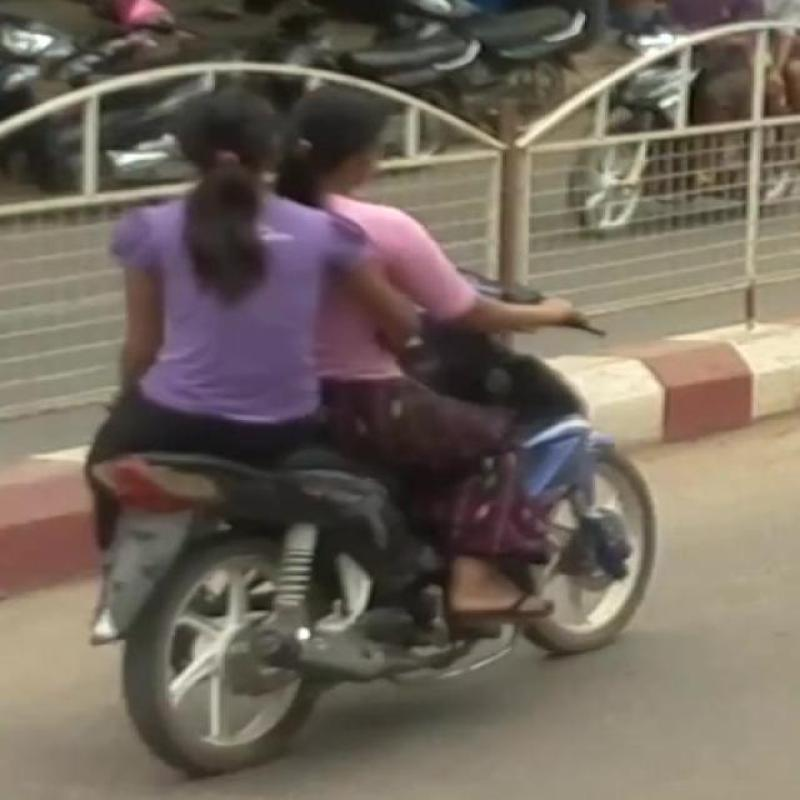nohelmet: (150, 80, 289, 232), (306, 71, 420, 229)
